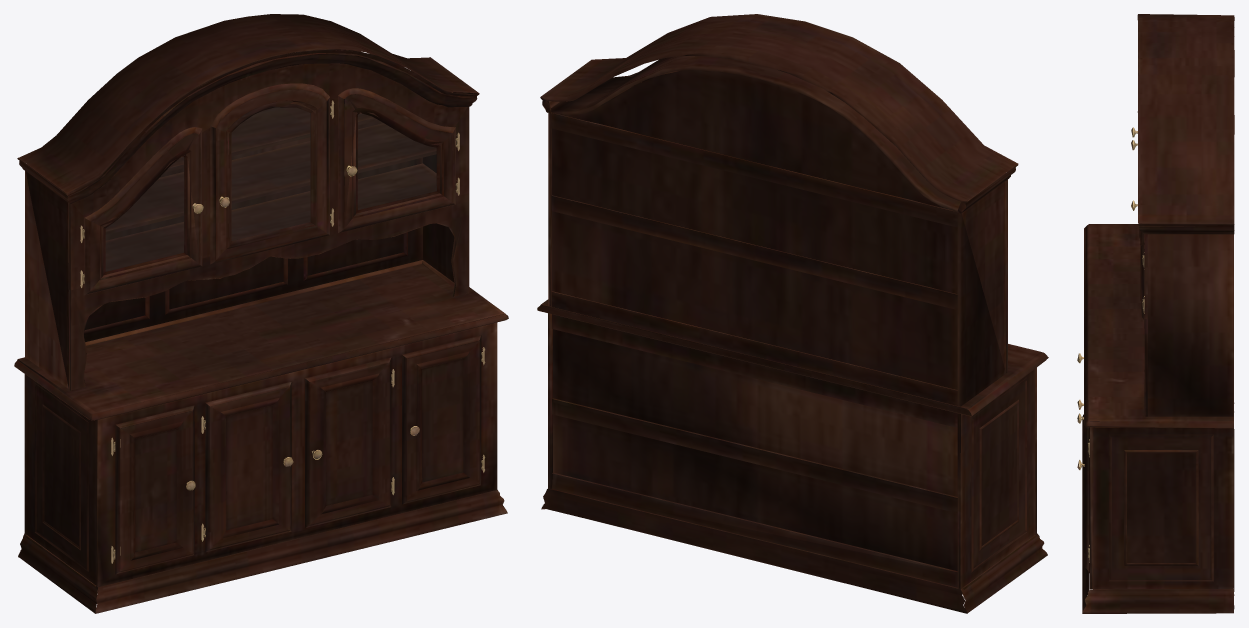
Rendered from ph_vintage_cabinet_01.glb.
3 views of the same model, side by side, from view 1: azimuth 30°, elevation 25°; view 2: azimuth 150°, elevation 25°; view 3: azimuth 270°, elevation 25° (orthographic). The views are drawn at different scales.
Parts seen in each view (by area): view 1: vintage_cabinet_01_body; view 2: vintage_cabinet_01_body; view 3: vintage_cabinet_01_body.
Part boxes in pixels (x1=…): vintage_cabinet_01_body: x1=14, y1=14, x2=508, y2=613; vintage_cabinet_01_body: x1=537, y1=14, x2=1048, y2=613; vintage_cabinet_01_body: x1=1077, y1=14, x2=1234, y2=613.
Bounding box in the file's own units: 2.02 × 2.24 × 0.6715.
3 materials, 2 textured.
